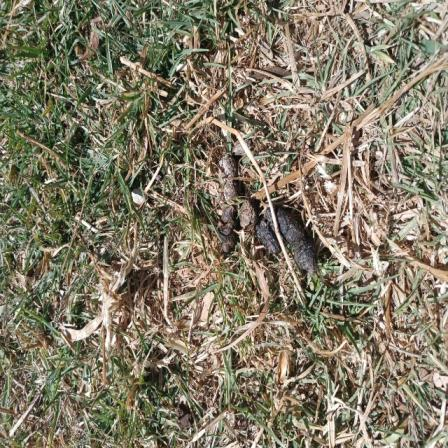dog-poop: (208, 147, 328, 283)
